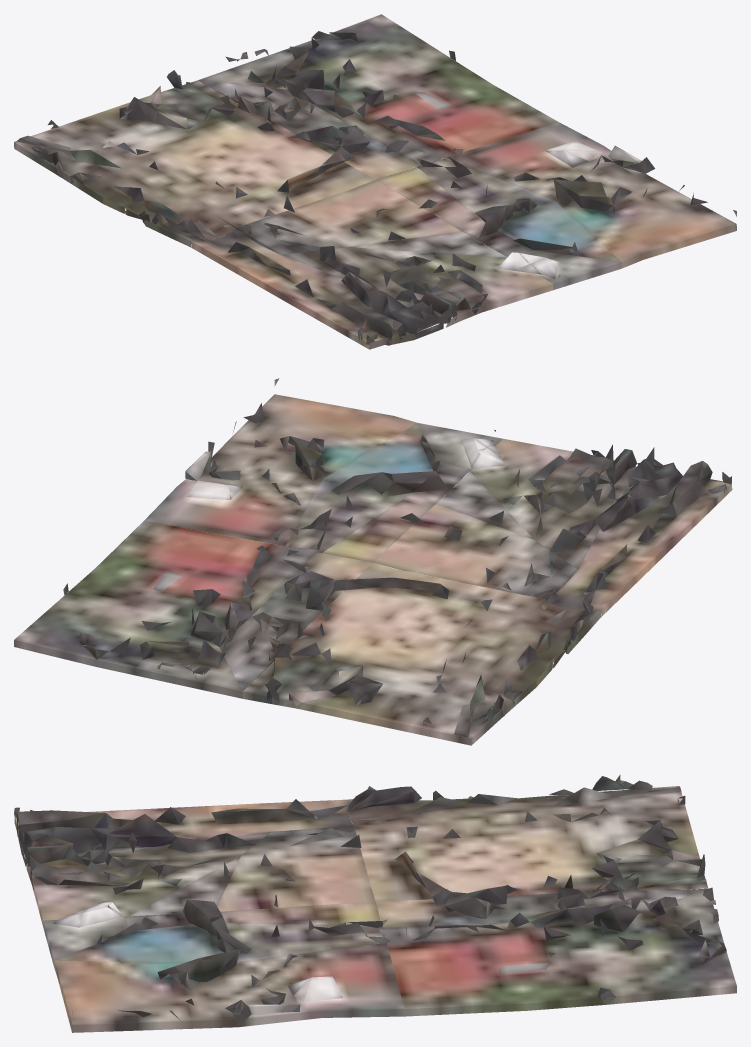
3 views of the same model, one above another, from view 1: azimuth 30°, elevation 25°; view 2: azimuth 150°, elevation 25°; view 3: azimuth 270°, elevation 25° (orthographic). The views are drawn at different scales.
Parts seen in each view (by area): view 1: Mesh_0; view 2: Mesh_0; view 3: Mesh_0.
Boxes of the visible parts, left/top/right/bottom form: Mesh_0: left=14, top=14, right=736, bottom=349; Mesh_0: left=14, top=378, right=732, bottom=745; Mesh_0: left=14, top=774, right=736, bottom=1032.
Bounding box in the file's own units: 532 × 41.93 × 659.
Materials: 1 (1 with a texture image).
